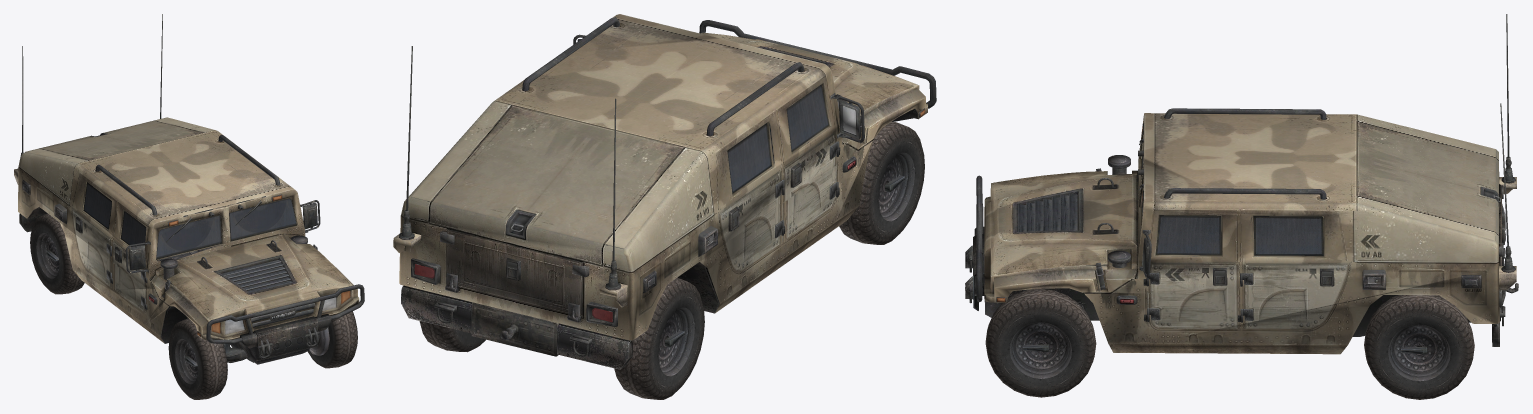
Rendered from Military Vehicle.fbx.
3 renders of one model, left to right at view 1: azimuth 30°, elevation 25°; view 2: azimuth 150°, elevation 25°; view 3: azimuth 270°, elevation 25°, orthographic. The views are drawn at different scales.
Parts seen in each view (by area): view 1: Vehicle; view 2: Vehicle; view 3: Vehicle.
Part boxes in pixels (bbox=[...]): Vehicle: bbox=[14, 14, 364, 399]; Vehicle: bbox=[393, 14, 936, 399]; Vehicle: bbox=[965, 14, 1518, 399].
Bounding box in the file's own units: 3.33 × 6.21 × 3.64.
